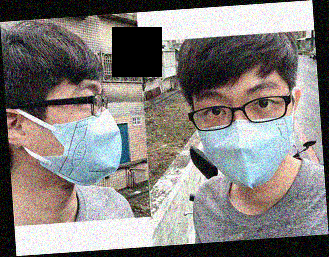with_mask: (195, 79, 297, 189), (38, 81, 125, 186)
